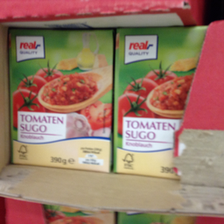tomato_sauce: (7, 27, 113, 172), (113, 25, 207, 180)
